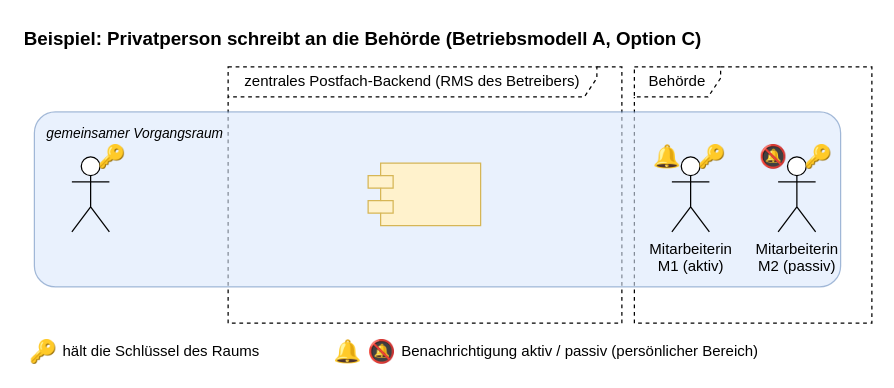
Some shapes in this 894 by 388 pixel diagram are drawn without their labels. The centre of each missing label's shape, as x and y in pixels:
"FP-Bot Bürgerservice" goes at point (424, 194).
"Privatperson" goes at point (90, 194).
